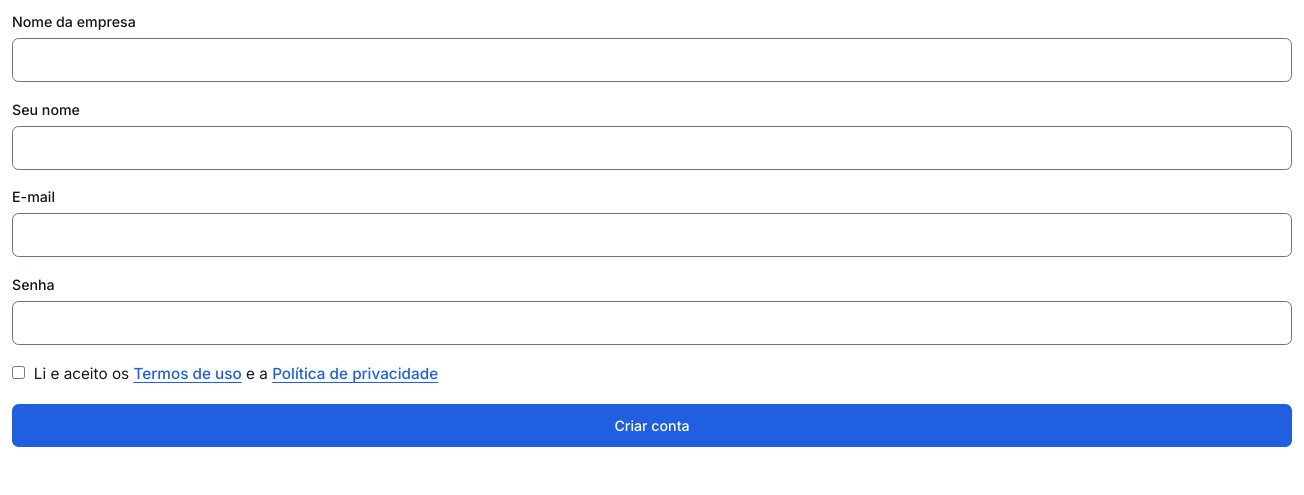
Test: FormularioCadastro › não envia sem o aceite, mesmo com os outros campos certos
This screenshot has width=1304, height=495.
Type "Loja Centro" into the field labelled "Nome da empresa".
click(652, 60); type("Loja Centro")  # box x1=12 y1=38 x2=1292 y2=82
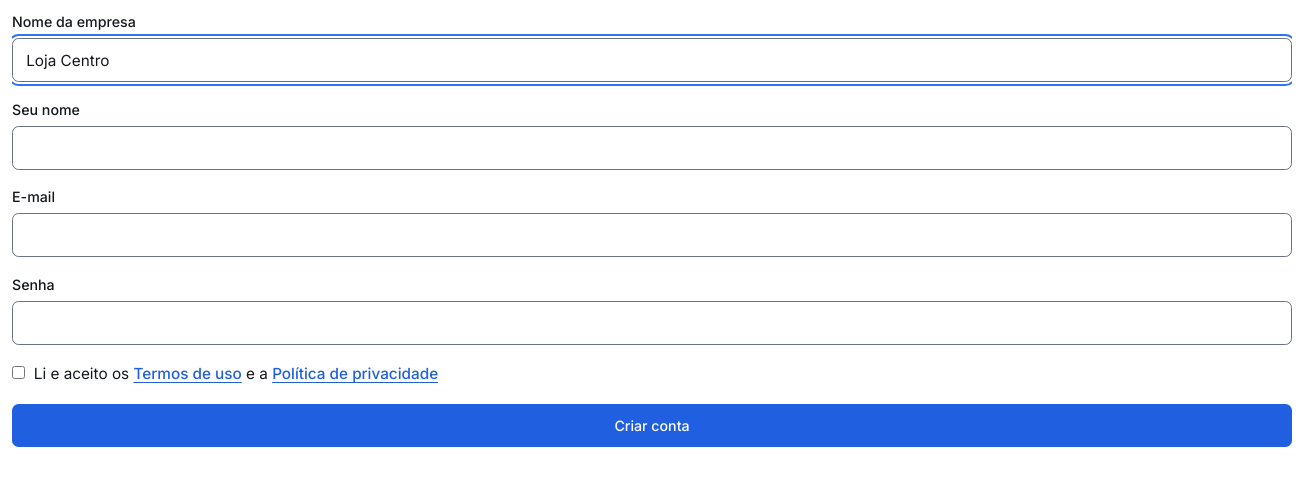
Type "Ana Souza" into the field labelled "Seu nome".
click(652, 148); type("Ana Souza")  # box x1=12 y1=126 x2=1292 y2=170
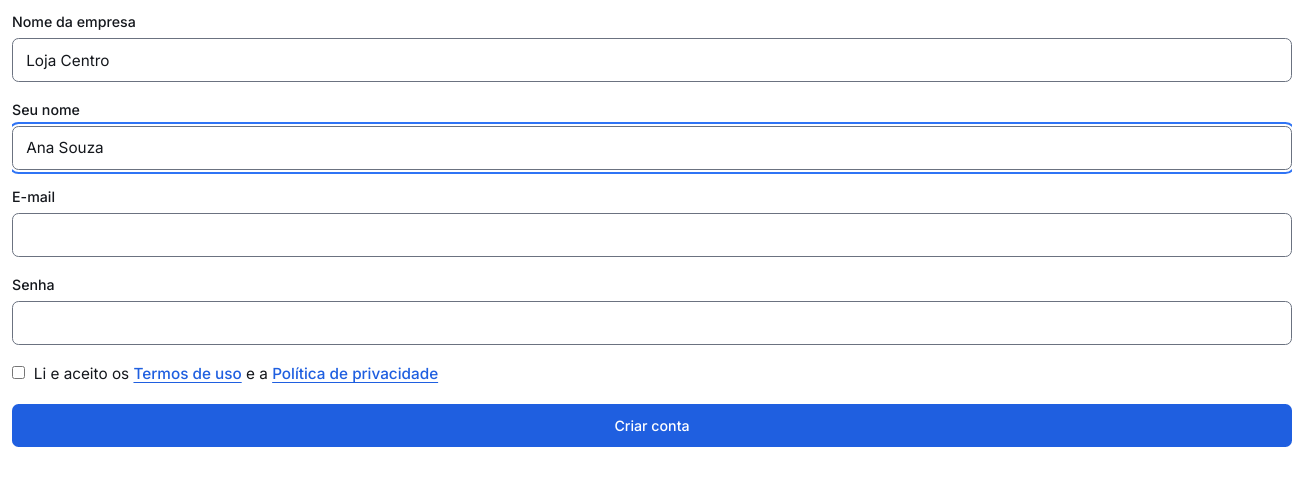
Type "ana@empresa.com.br" into the field labelled "E-mail".
click(652, 235); type("ana@empresa.com.br")  # box x1=12 y1=213 x2=1292 y2=257
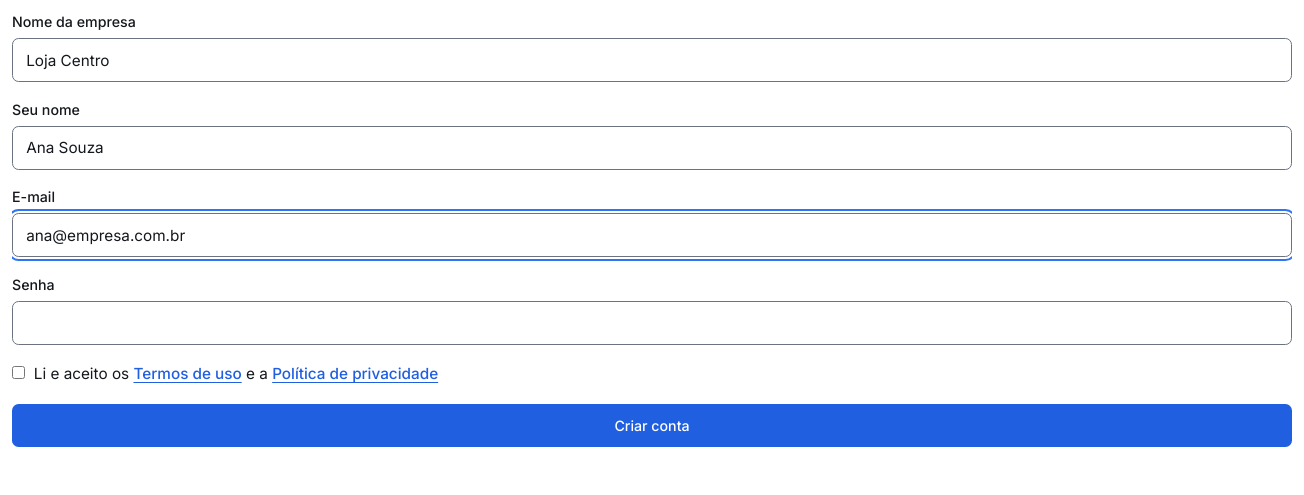
Type "uma-senha-longa-123" into the password field labelled "Senha".
click(652, 323); type("uma-senha-longa-123")  # box x1=12 y1=301 x2=1292 y2=345
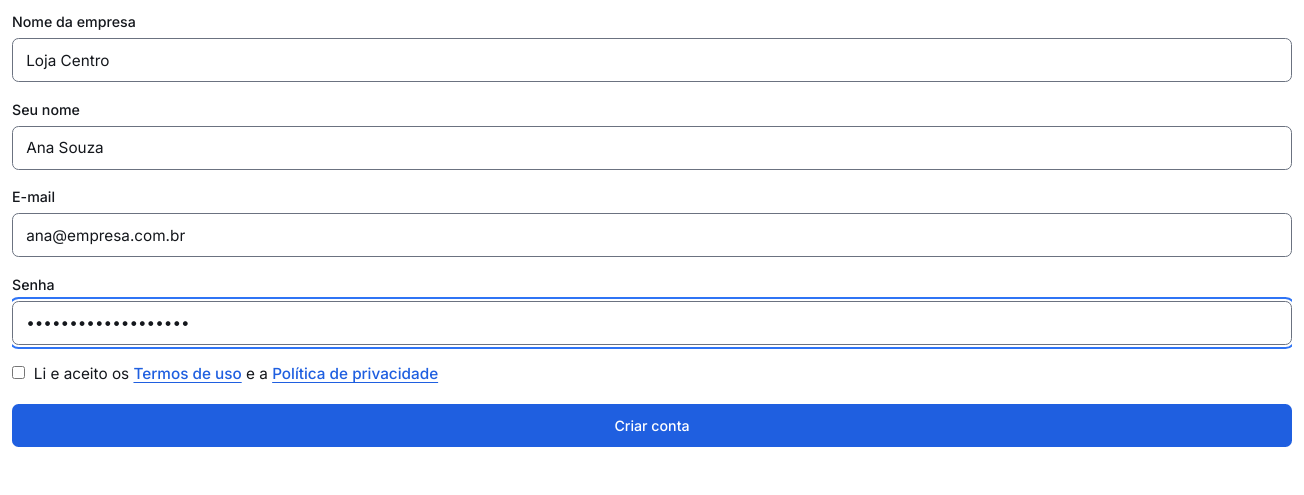
Click the button "Criar conta".
click(652, 426)  # box x1=12 y1=404 x2=1292 y2=447
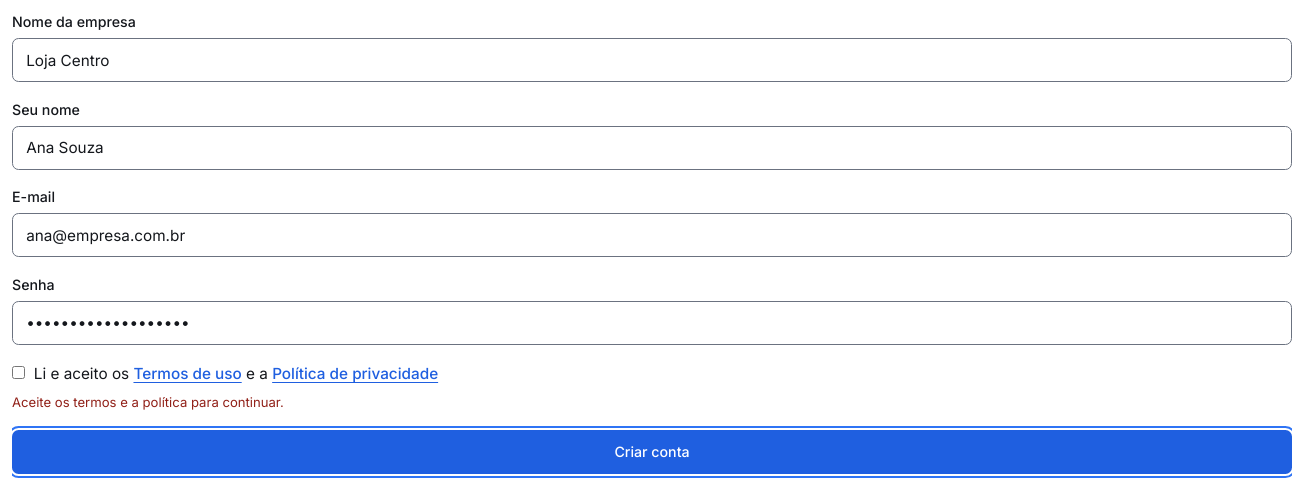
Expected: the text "Aceite os termos e a política para continuar." is shown, x1=12 y1=394 x2=284 y2=410
